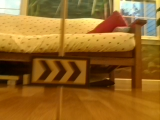right: (30, 56, 88, 86)
